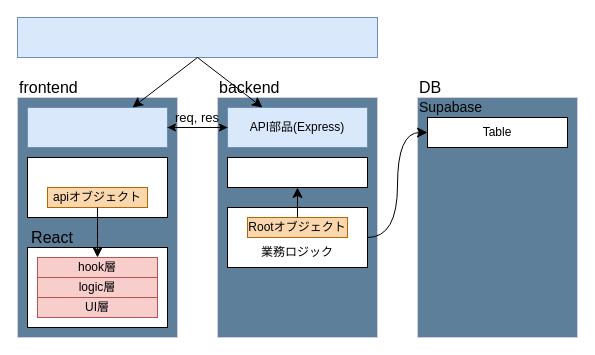
Image size: 595x355. Some labels were removed from this diagram. Here are the shapes that lost their labels. From the top down, the box of each, then its label:
(16, 16, 378, 58): OpenAPI Generator
(26, 106, 168, 148): API部品(axios)
(26, 156, 168, 218): フロント共通部品
(226, 156, 368, 188): サーバー共通部品
